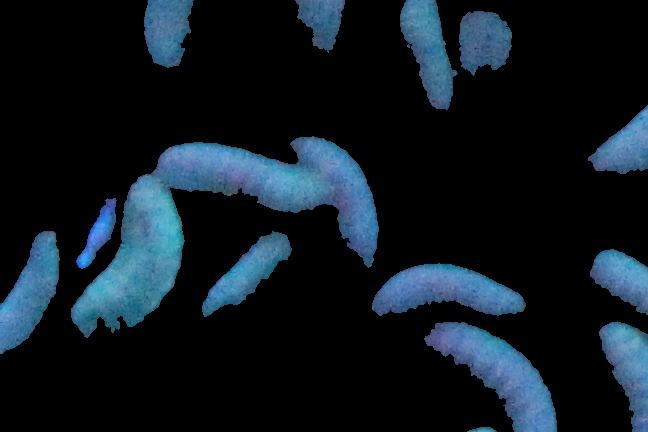larvae: (77, 172, 184, 335), (190, 222, 322, 338), (422, 321, 557, 432), (155, 142, 318, 216), (293, 136, 379, 269), (369, 263, 528, 314), (395, 1, 460, 118), (1, 231, 58, 352), (597, 318, 648, 432), (286, 1, 347, 71), (588, 249, 648, 318), (143, 1, 193, 73)
